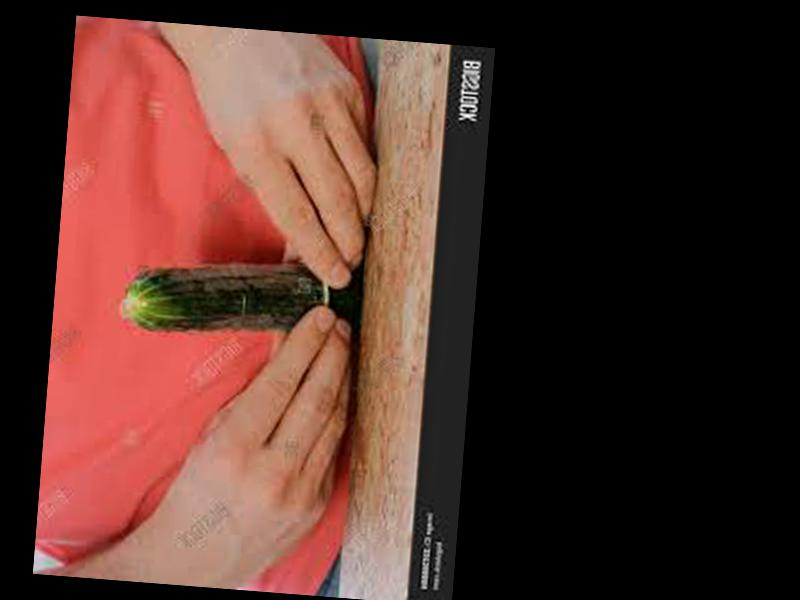Cucumber: (121, 251, 362, 348)
